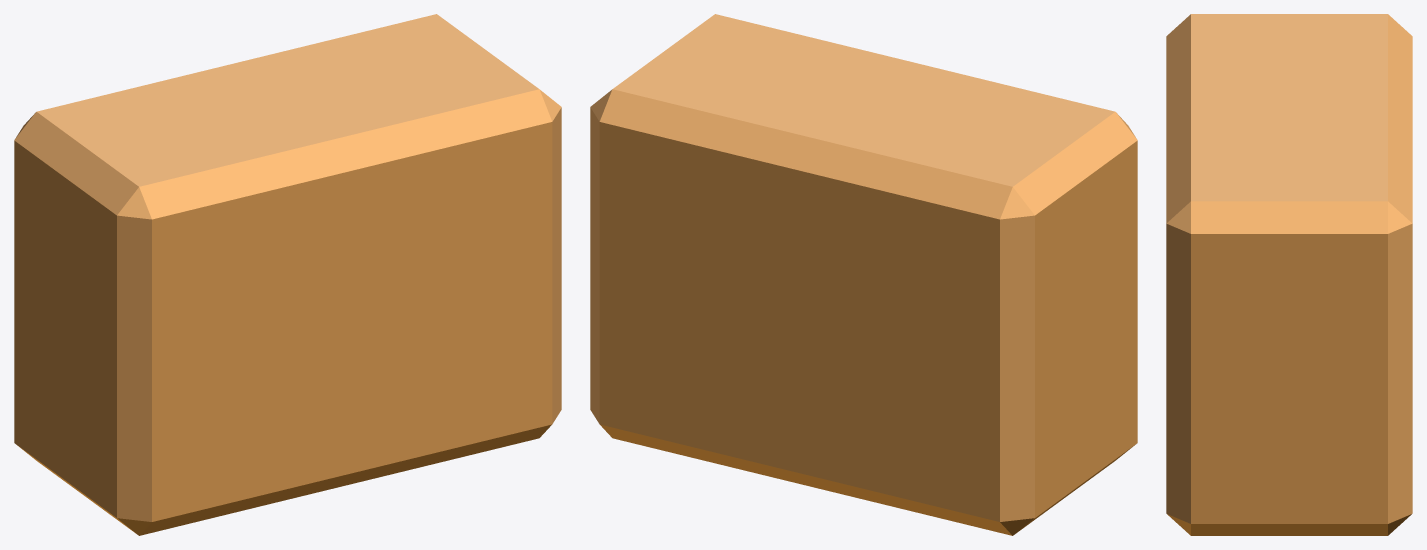
Rendered from m_kub_clay_halfMid.FBX.
The picture shows the model from 3 angles, left to right: view 1: azimuth 30°, elevation 25°; view 2: azimuth 150°, elevation 25°; view 3: azimuth 270°, elevation 25°; orthographic projection. The views are drawn at different scales.
Parts seen in each view (by area): view 1: m_kub_clay_halfMid; view 2: m_kub_clay_halfMid; view 3: m_kub_clay_halfMid.
Boxes of the visible parts, bbox=[...] form: m_kub_clay_halfMid: bbox=[14, 14, 561, 535]; m_kub_clay_halfMid: bbox=[590, 14, 1137, 535]; m_kub_clay_halfMid: bbox=[1166, 14, 1412, 535].
Bounding box in the file's own units: 2 × 1.5 × 1.
